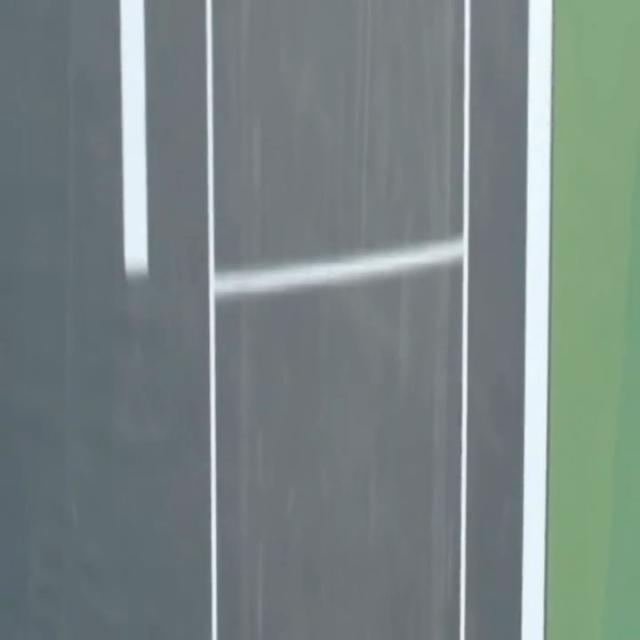center: (119, 0, 148, 276)
right: (521, 0, 552, 639)
